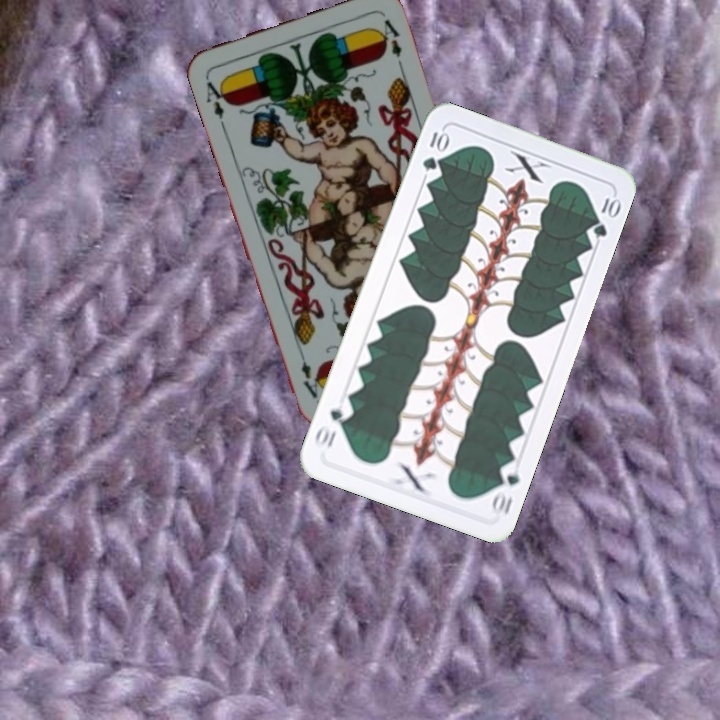EA: (202, 76, 232, 130)
G10: (487, 458, 522, 518), (418, 125, 450, 174)
